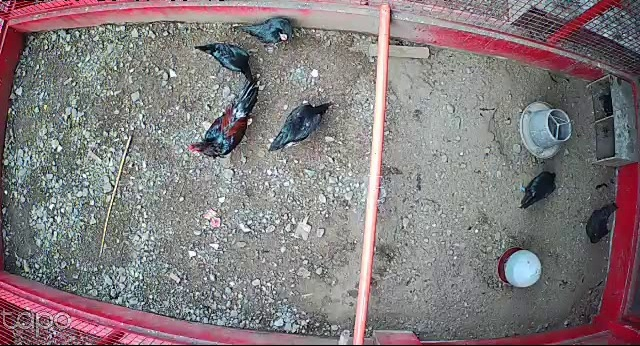Chicken: (267, 92, 335, 154), (190, 39, 261, 86), (229, 14, 296, 46), (518, 170, 557, 210), (584, 201, 618, 244)
Drinker: (497, 247, 543, 288)
Feeder: (520, 100, 572, 159)
Rooster: (187, 73, 259, 161)
